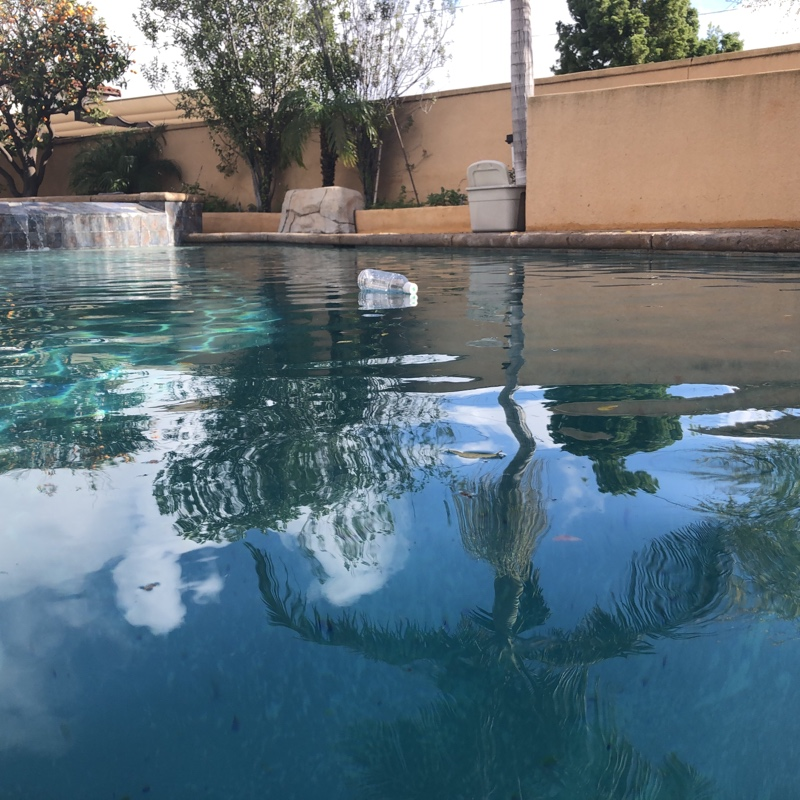Plastic Bottle: (354, 266, 418, 299)
